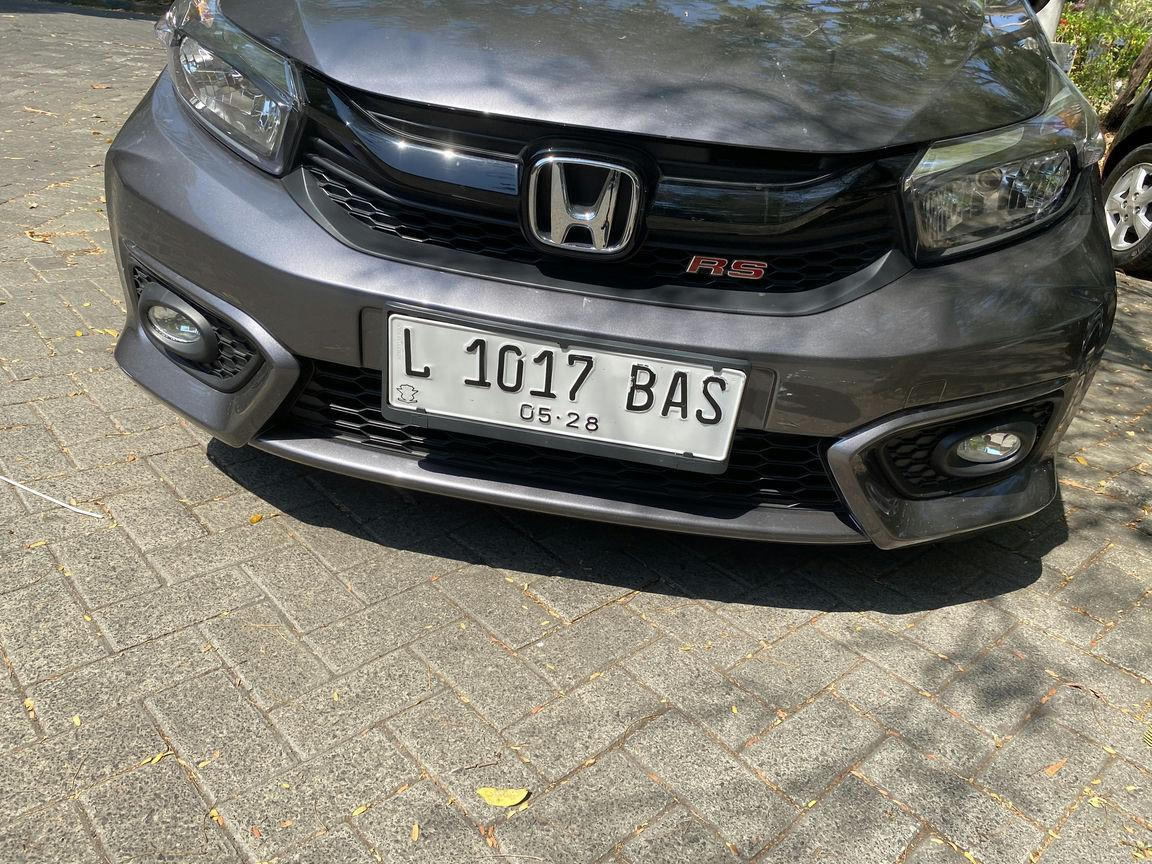plat: (388, 317, 747, 463)
